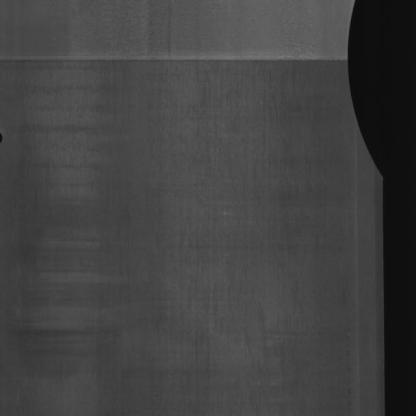crescent_gap: (342, 0, 387, 187)
punching_hole: (0, 131, 4, 145)
welding_line: (0, 51, 351, 82)
